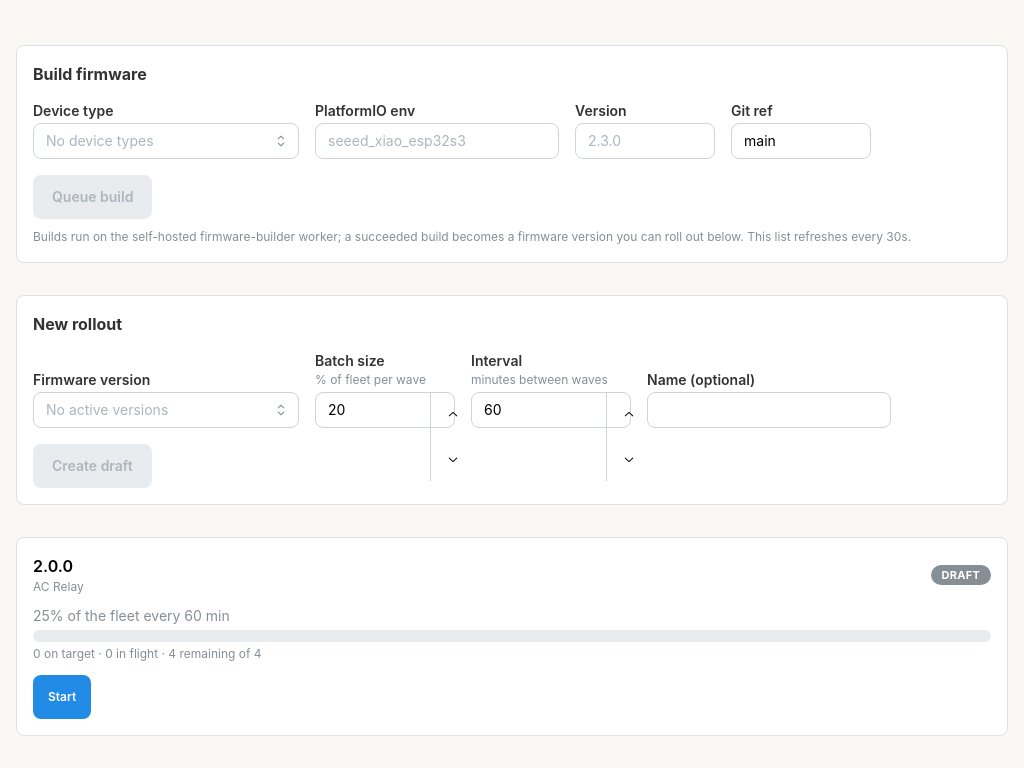
Scenario: ForgeKeyFirmwareRolloutsPage › starting a draft rollout flips it to active
(page scrolled)
Click the button "Start" at (62, 697), box [33,675,91,719]
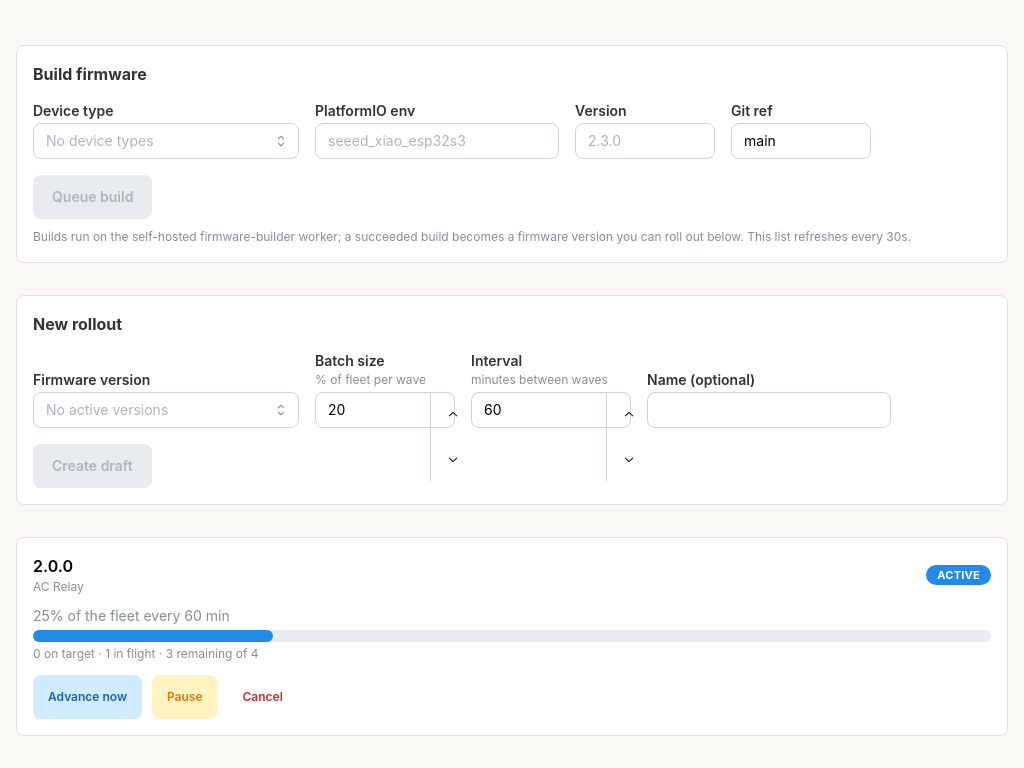
Check: the element with test id "rollout-status-r1" reads "active", box [937,568,980,582]
